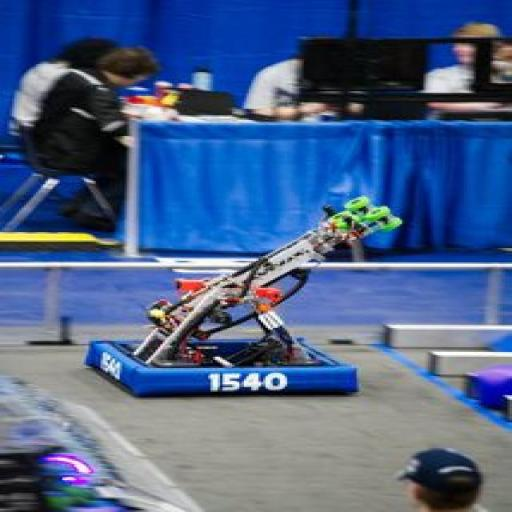robot: (81, 163, 404, 405)
